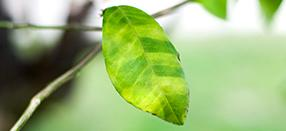Citrus Greening: (102, 4, 190, 126)
